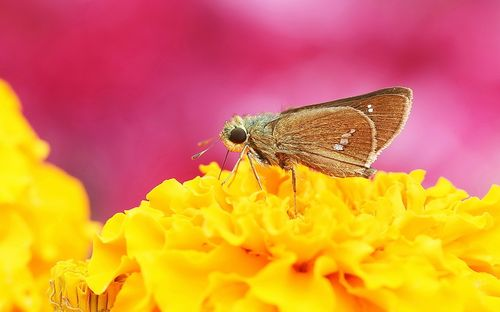Hesperiidae: (187, 81, 420, 210)
